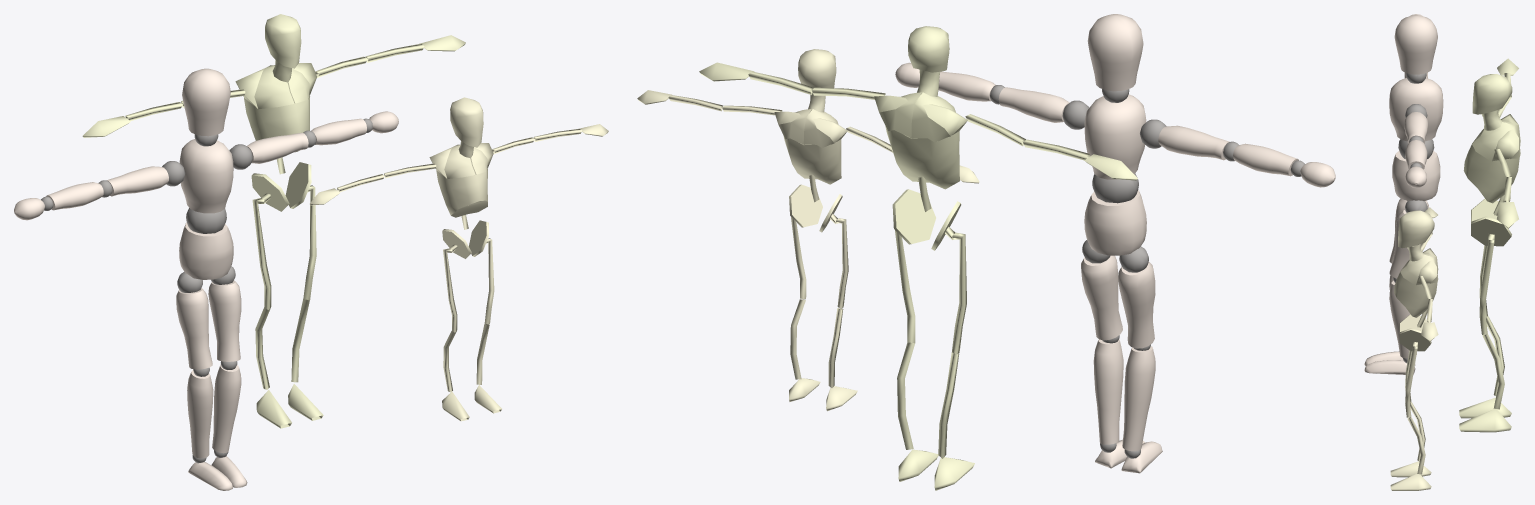
Rendered from 95mannnequin-group.fbx.
3 renders of one model, left to right at view 1: azimuth 30°, elevation 25°; view 2: azimuth 150°, elevation 25°; view 3: azimuth 270°, elevation 25°, orthographic. The views are drawn at different scales.
Visible parts, largest first — view 1: Chest, Head, RightThigh, Hip, Left Thigh, Left Shin, Right Shin, Chest:1, Chest:2, Hip:1, LeftShou~0, RightSho~2 (+16 smaller); view 2: Chest, Head, Hip, Chest:1, RightThigh, Left Thigh, Left Shin, Right Shin, LeftShou~0, Hip:1, RightSho~2, RightCo~11 (+18 smaller); view 3: Chest, Head, Chest:1, Hip, Head:1, LeftColl~5, Hip:1, Head:2, Chest:2, LeftFoot:1, Hip:2, LeftCol~16 (+25 smaller).
Boxes of the visible parts, x1,y1,x2,y2 form: Chest: (179,139,233,233); Head: (182,68,230,146); RightThigh: (176,271,212,369); Hip: (179,222,233,279); Left Thigh: (208,266,241,361); Left Shin: (212,361,241,453); Right Shin: (187,367,213,458); Chest:1: (244,84,309,152); Chest:2: (436,160,487,217); Hip:1: (251,162,311,211); LeftShou~0: (229,132,308,169); RightSho~2: (107,161,185,196); Chest: (1084,94,1146,203); Head: (1087,14,1143,102); Hip: (1084,190,1146,255); Chest:1: (885,126,959,189); RightThigh: (1118,246,1155,348); Left Thigh: (1081,240,1122,340); Left Shin: (1093,335,1123,444); Right Shin: (1122,344,1155,451); LeftShou~0: (998,87,1089,129); Hip:1: (892,189,961,250); RightSho~2: (1140,119,1229,160); RightCo~11: (910,92,967,142); Chest: (1389,78,1443,158); Head: (1394,15,1437,83); Chest:1: (1463,139,1519,203); Hip: (1392,151,1440,201); Head:1: (1472,74,1512,114); LeftColl~5: (1472,122,1520,161); Hip:1: (1471,199,1511,246); Head:2: (1398,210,1434,248); Chest:2: (1394,268,1437,317); LeftFoot:1: (1459,409,1511,432); Hip:2: (1399,314,1431,351); LeftCol~16: (1400,254,1438,285).
Size of the model in its own units: 287 by 183 by 73.02.
